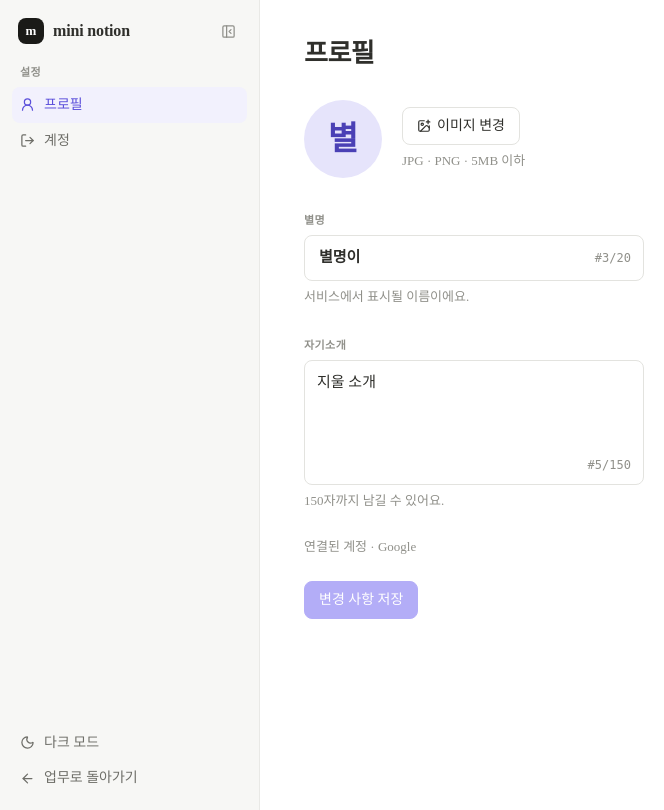
자기소개 수정·비우기 (US2) › 전부 지우고 저장하면 null로 저장되고 placeholder가 보인다 (FR-007)
Check: the field named "별명" holds "별명이", box [317,245,585,271]
Clear the text box named "자기소개" at (474, 408), box [317,370,631,446]
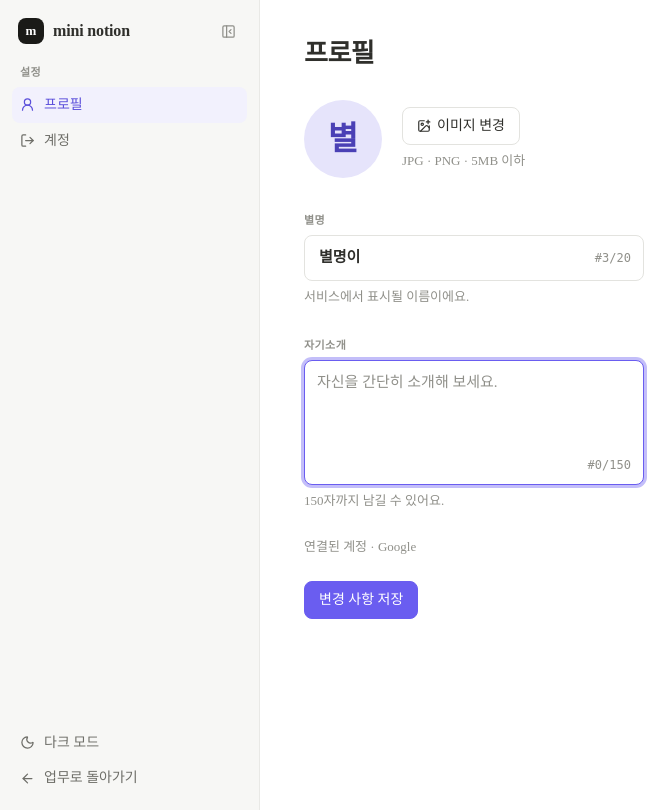
Click the button "변경 사항 저장".
click(361, 600)  # box [304,581,418,619]
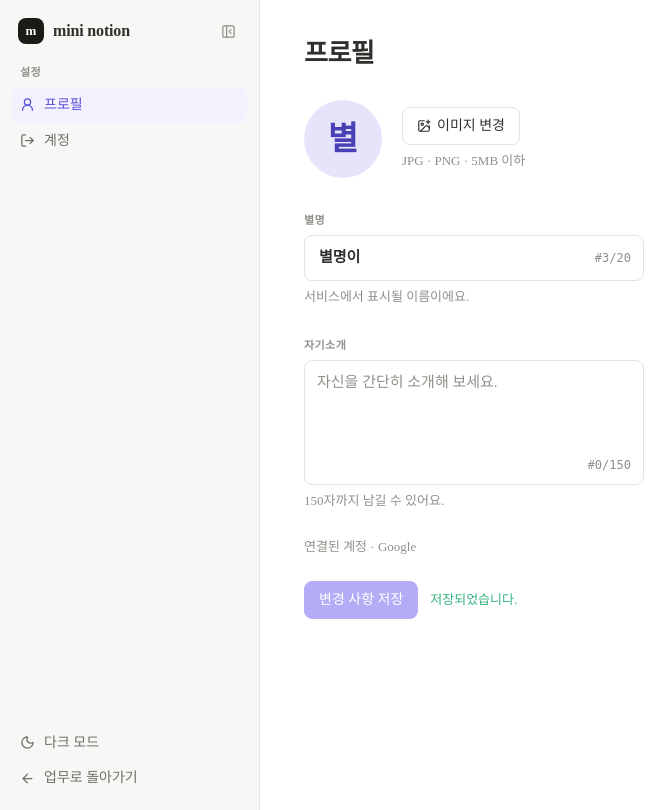
Check: the text "저장되었습니다." is shown, box [430,590,517,610]
